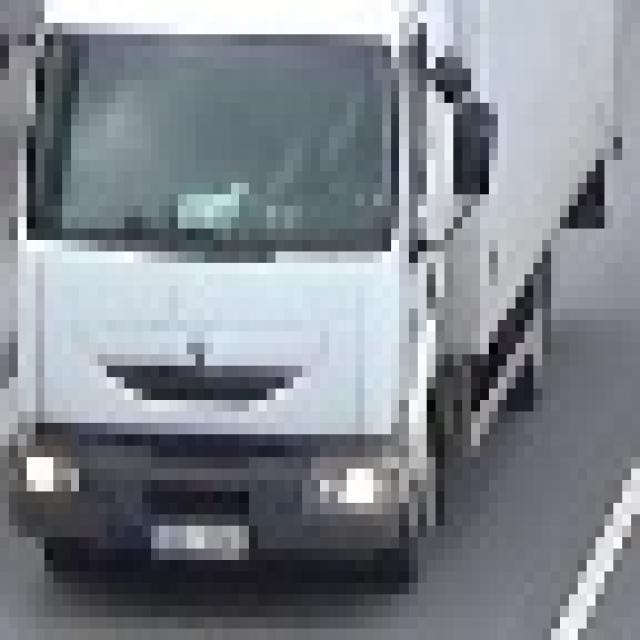truck: (9, 0, 640, 560)
